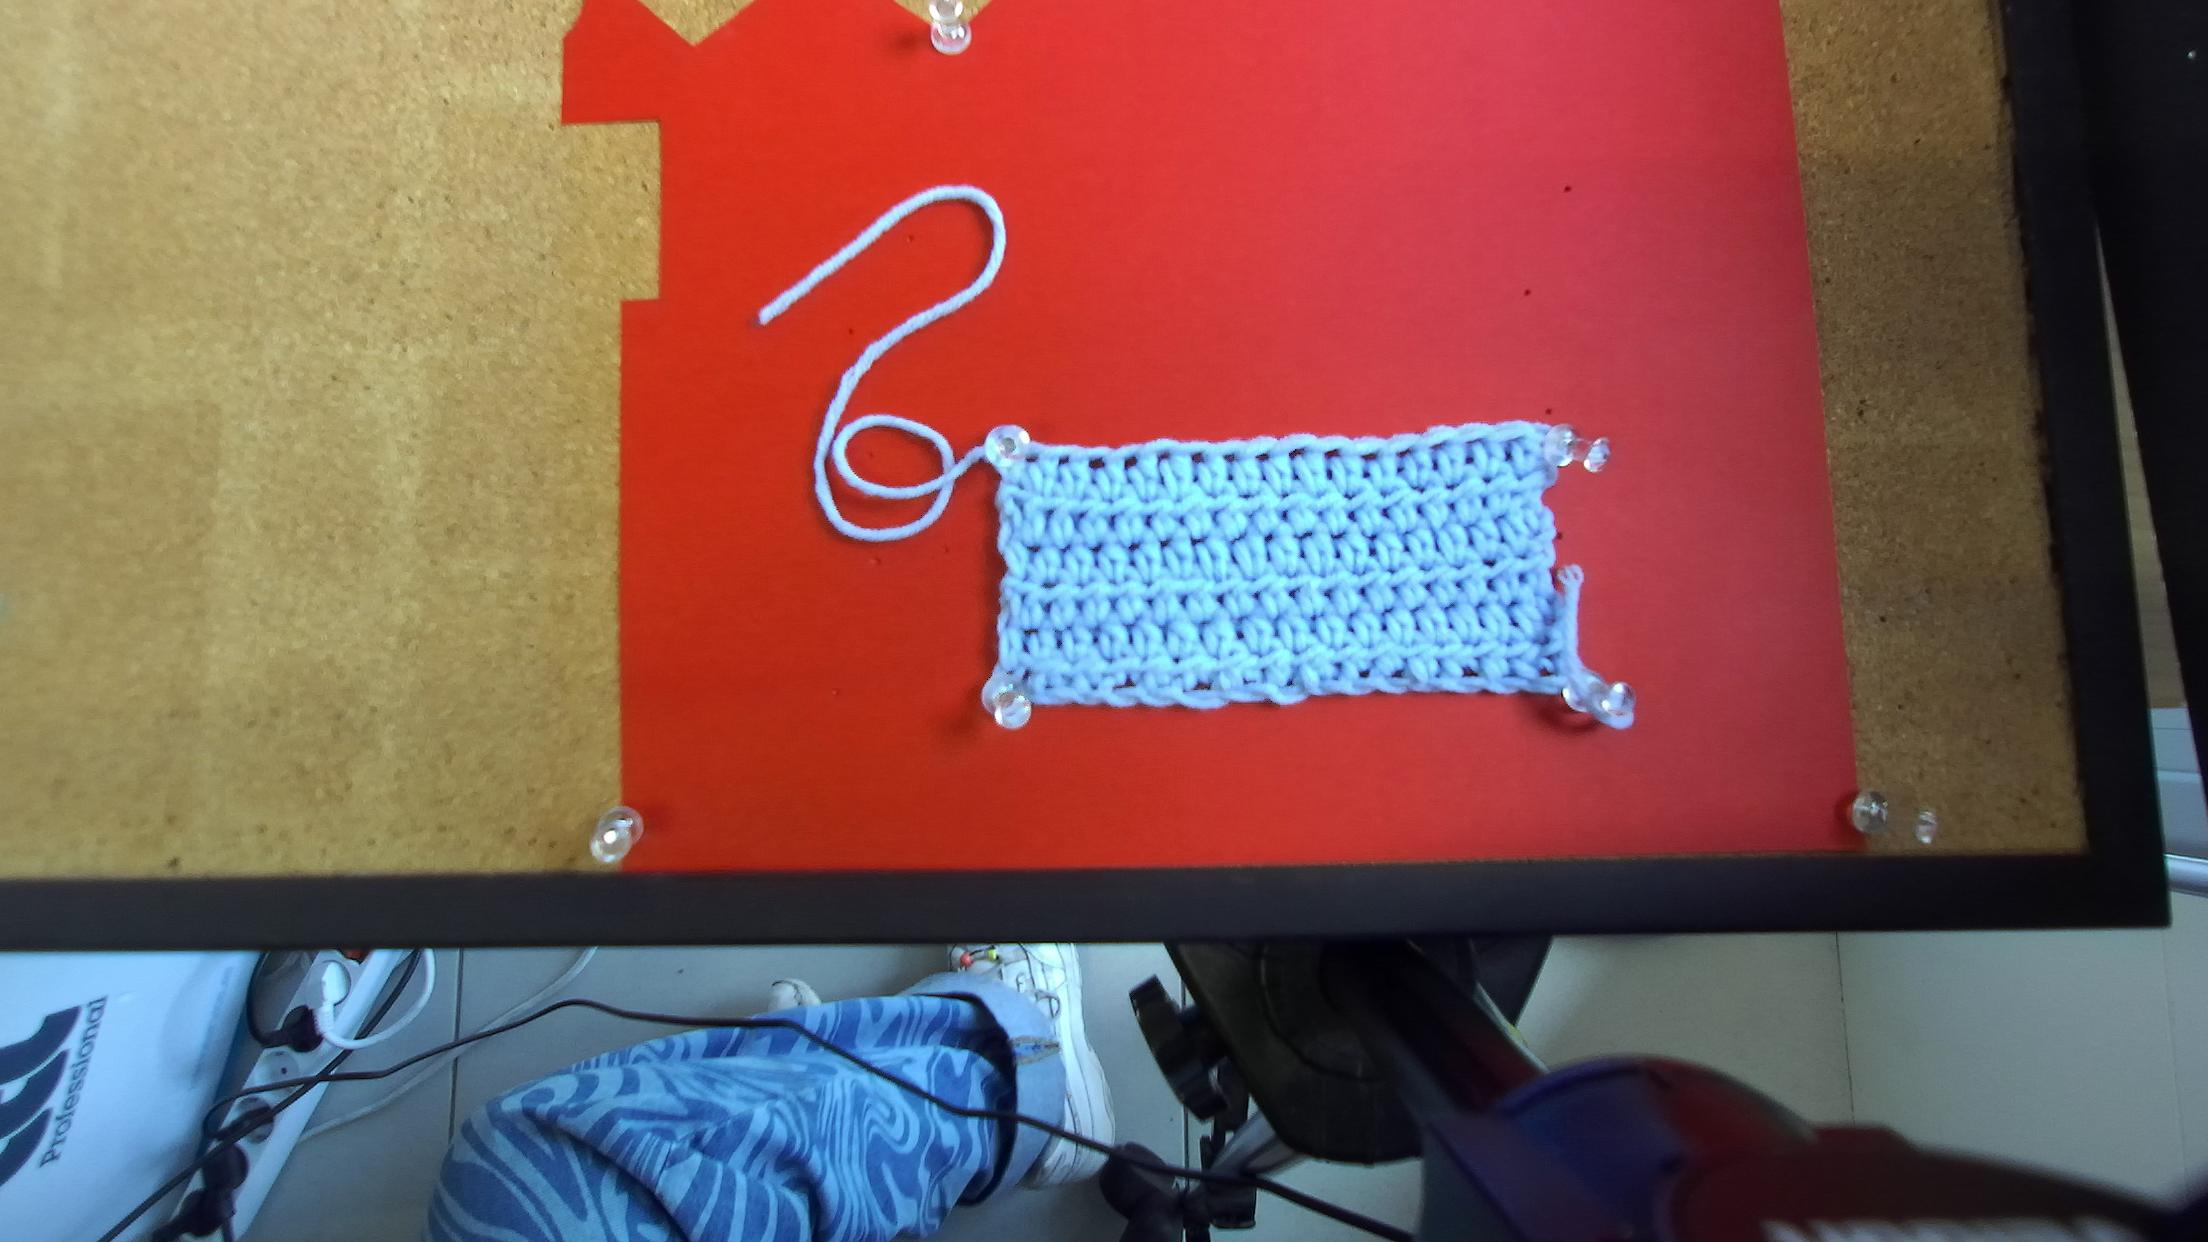hole: (1286, 446, 1309, 461), (1156, 447, 1172, 467), (1124, 452, 1139, 473), (1089, 456, 1107, 472), (1498, 435, 1524, 446), (1221, 450, 1239, 464), (1322, 447, 1342, 459), (1253, 450, 1271, 463), (1394, 447, 1412, 459), (1429, 440, 1448, 450), (1189, 450, 1204, 464), (1463, 437, 1486, 446), (1359, 452, 1378, 461), (1025, 453, 1039, 466), (1057, 455, 1069, 466)
swatch: (977, 422, 1624, 731)
